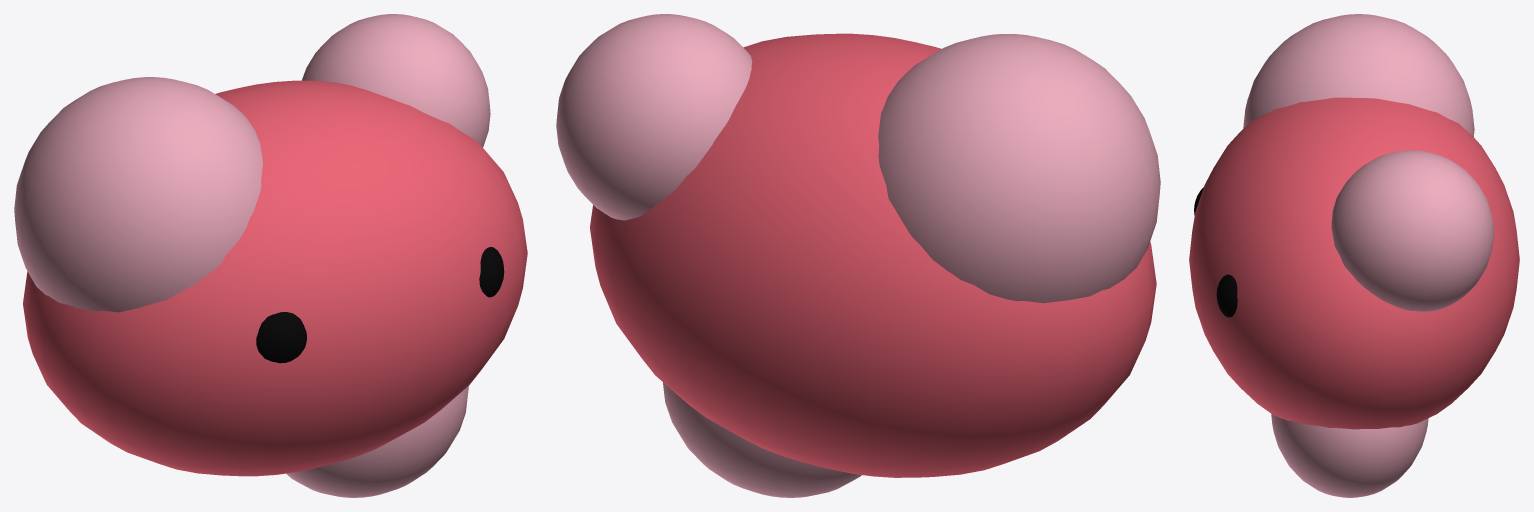
Rendered from red.gltf.
The picture shows the model from 3 angles, left to right: view 1: azimuth 30°, elevation 25°; view 2: azimuth 150°, elevation 25°; view 3: azimuth 270°, elevation 25°; orthographic projection. The views are drawn at different scales.
Parts seen in each view (by area): view 1: Sphere.003; view 2: Sphere.003; view 3: Sphere.003.
Part boxes in pixels (x1,y1,x2,y2): Sphere.003: (14,14,527,497); Sphere.003: (556,14,1160,497); Sphere.003: (1189,14,1519,497).
Size of the model in its own units: 2.83 by 2.53 by 2.
